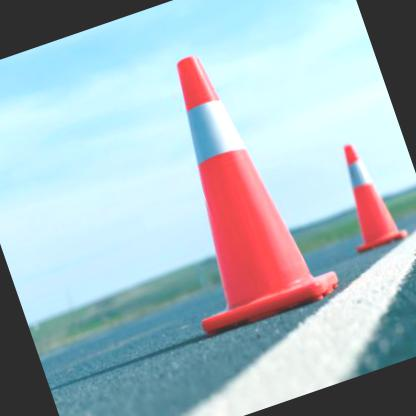cone: (118, 33, 343, 339), (320, 132, 411, 256)
